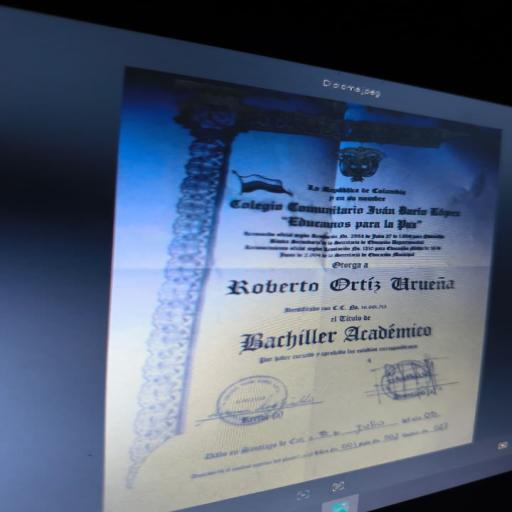bachillerato: (228, 313, 439, 355)
diploma: (119, 79, 498, 512)
escudo: (322, 133, 389, 187)
firma: (199, 367, 322, 435), (325, 355, 457, 416)
institucion: (213, 196, 476, 232)
nombre: (194, 271, 467, 305)
